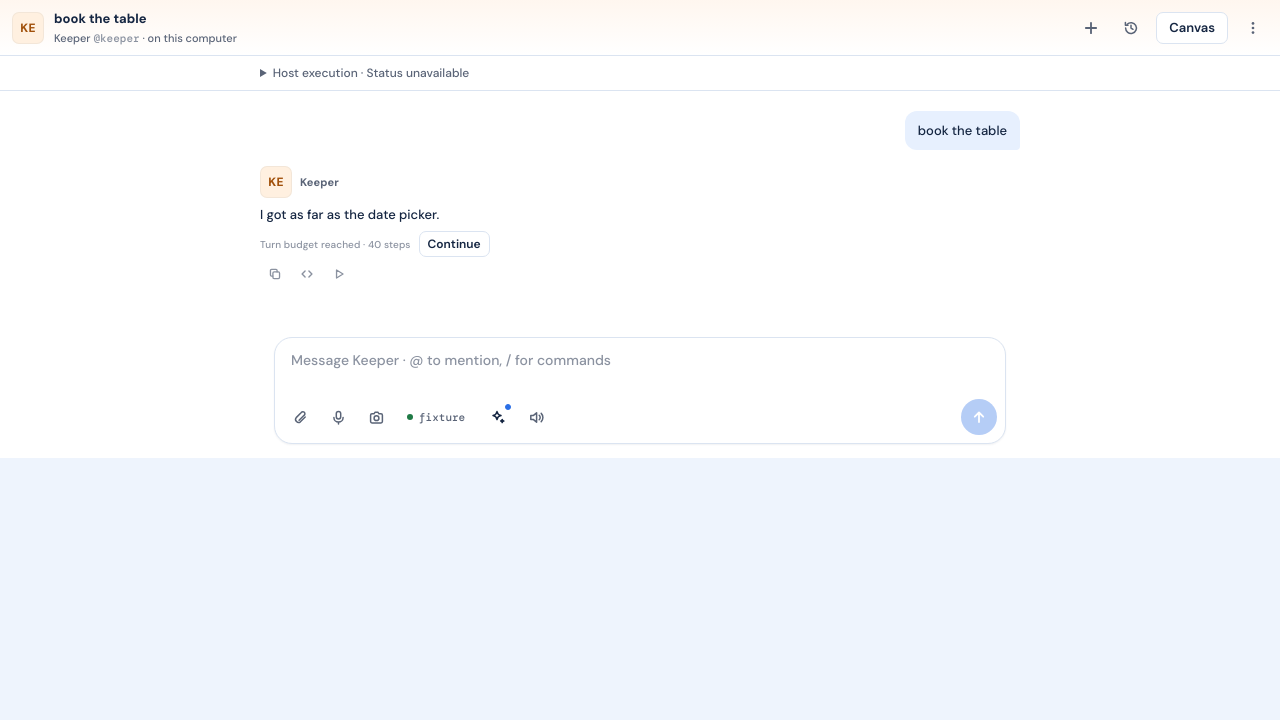
Scenario: the chat page › Continue sends "continue" as the owner through the ordinary send, then goes away
The image size is (1280, 720).
Click the button with test id "budget-continue" at x=454, y=244, box x1=419 y1=231 x2=490 y2=257
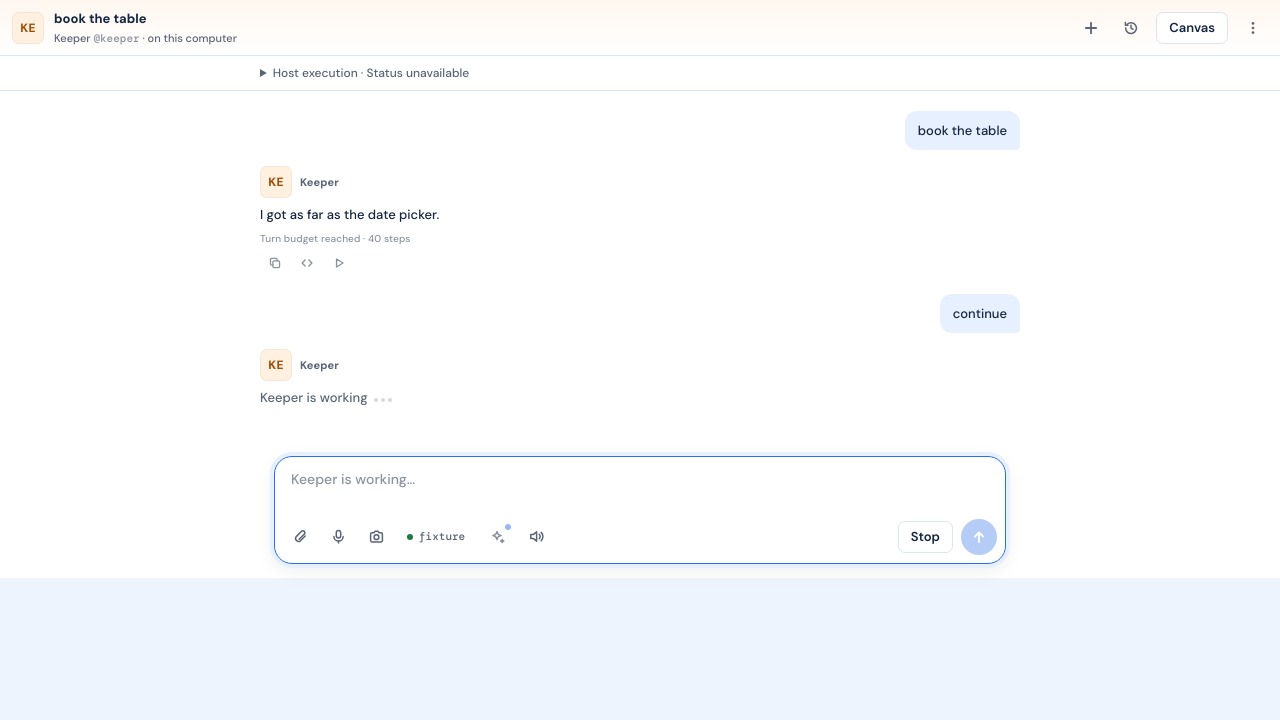
Now the button with test id "budget-continue" is gone
